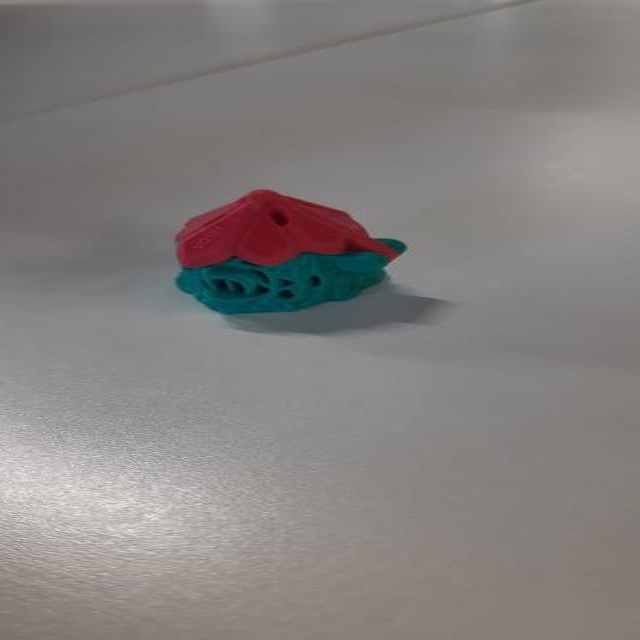House: (168, 186, 409, 319)
